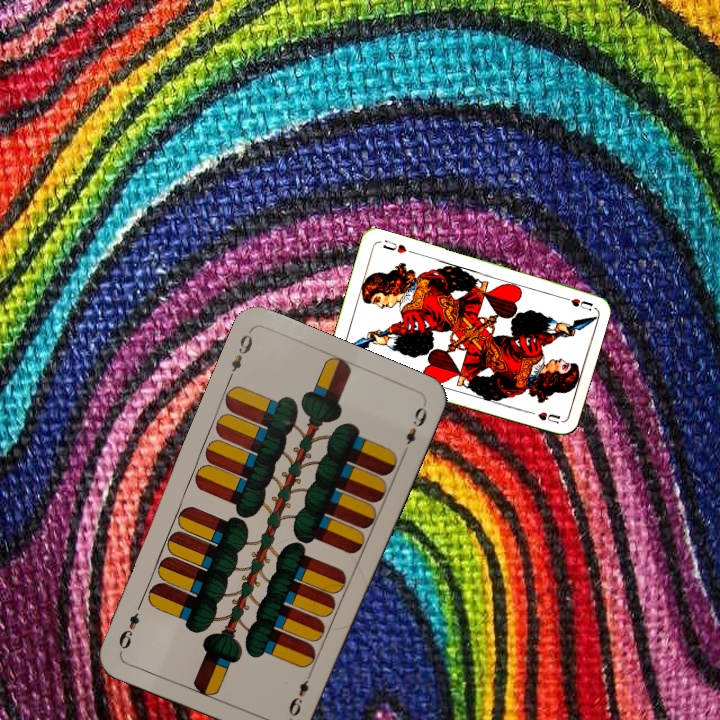E9: (224, 327, 256, 384), (284, 668, 316, 719)
HU: (556, 292, 596, 313)
